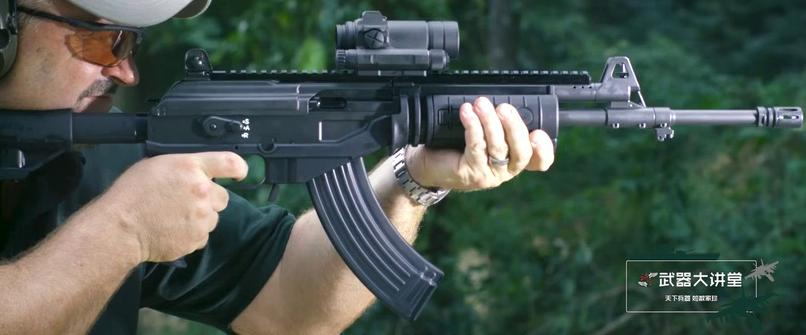gun: (1, 1, 806, 335)
